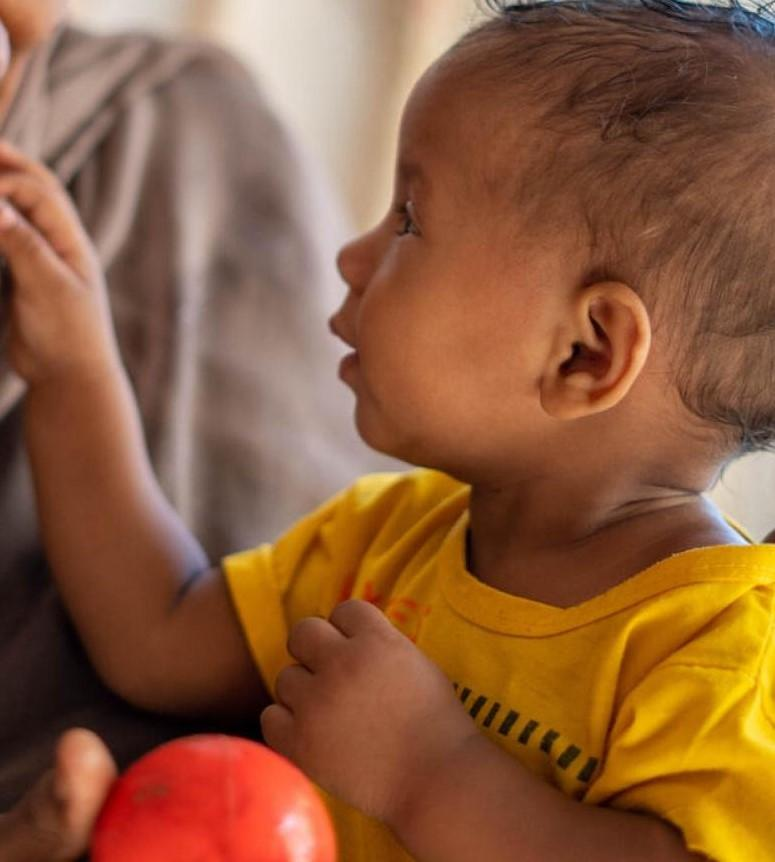Healthy: (269, 0, 773, 488)
